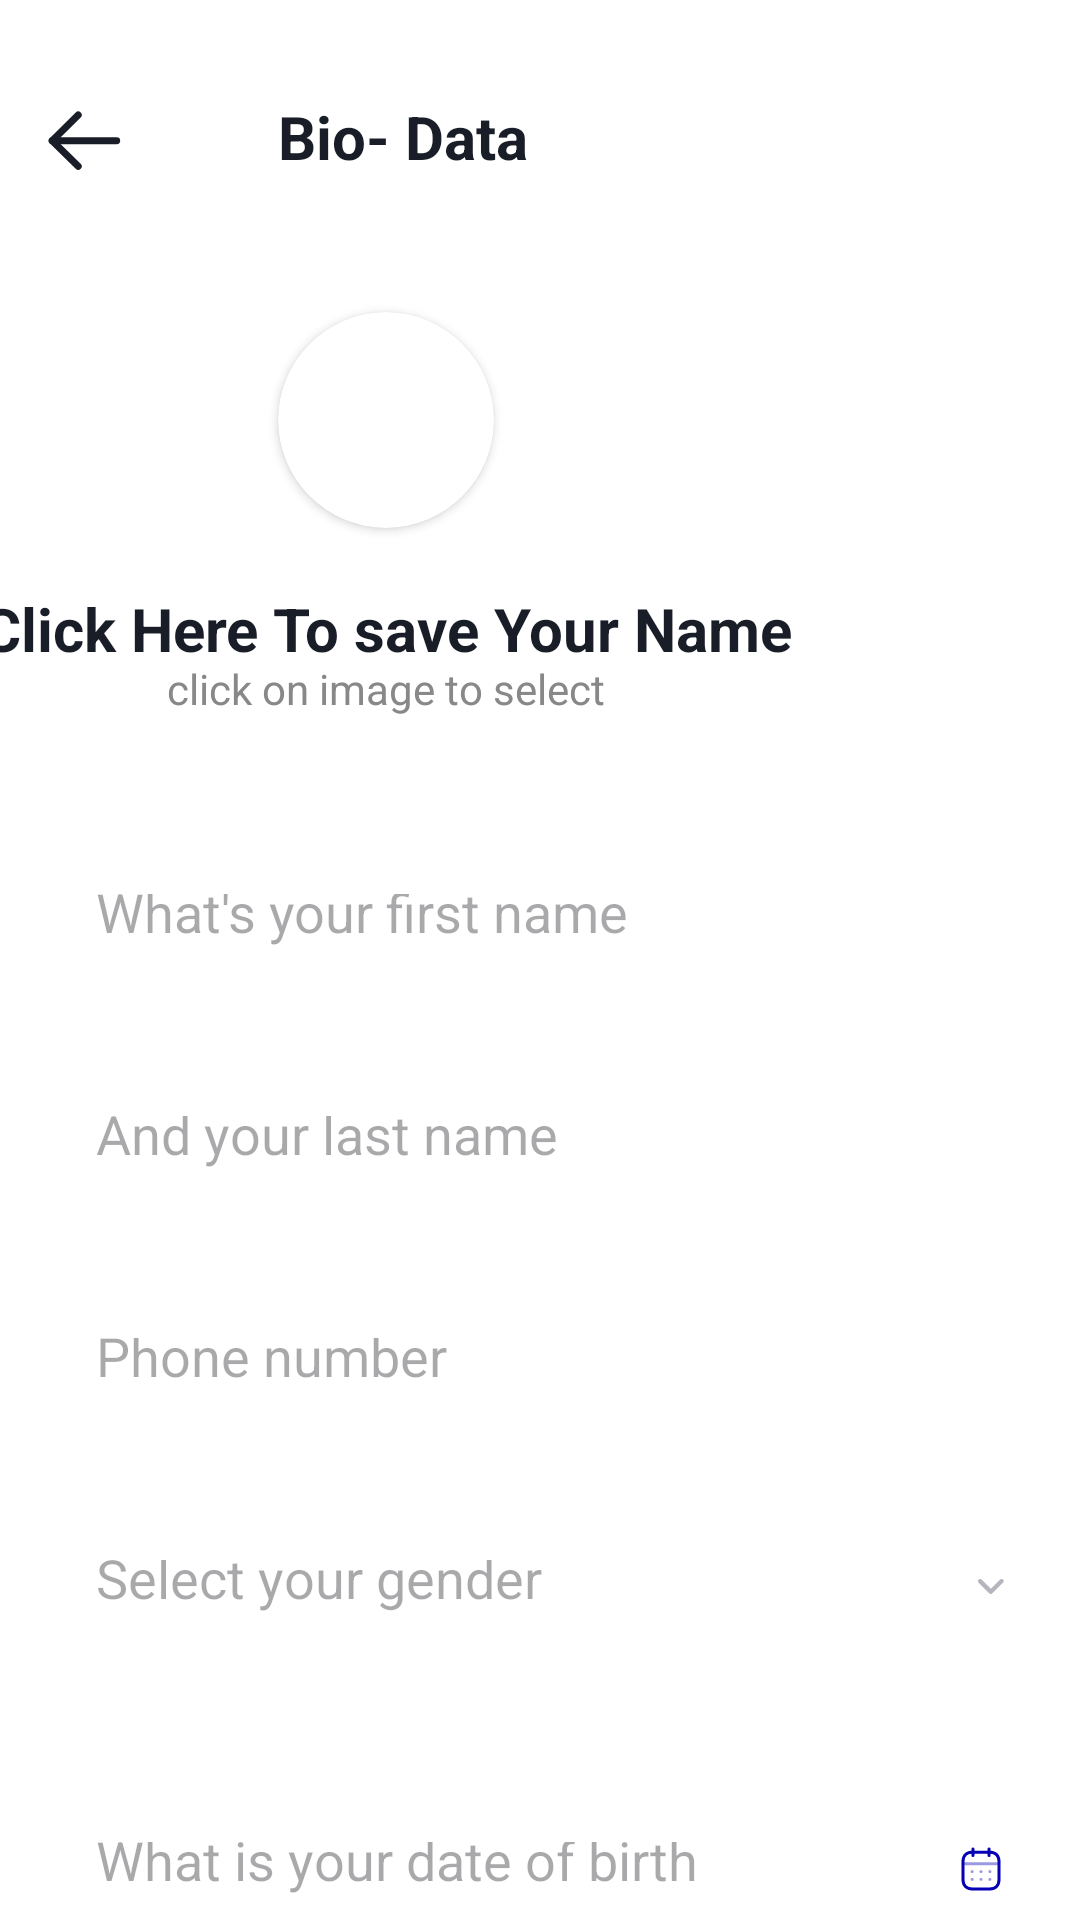

Named icons in this screenshot (1080px x 1920px) and their bounding boxes, (x1, y1, x2, y2):
arrow left: (48, 111, 121, 170)
